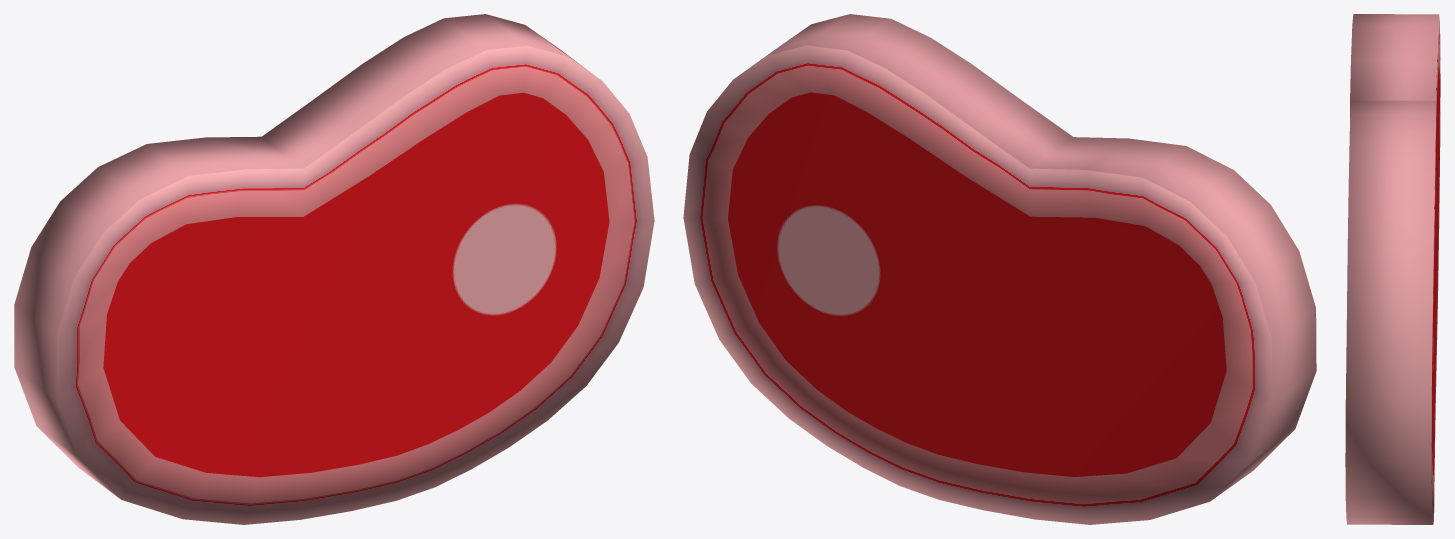
The model's file is red_meat.glb.
3 renders of one model, left to right at view 1: azimuth 30°, elevation 25°; view 2: azimuth 150°, elevation 25°; view 3: azimuth 270°, elevation 25°, orthographic.
Visible parts, largest first — view 1: Red_Meat; view 2: Red_Meat; view 3: Red_Meat.
Boxes of the visible parts, x1,y1,x2,y2 form: Red_Meat: (14, 14, 654, 524); Red_Meat: (683, 14, 1316, 524); Red_Meat: (1345, 14, 1440, 524).
Size of the model in its own units: 0.6985 by 0.4808 by 0.0977.
1 material, 1 textured.
